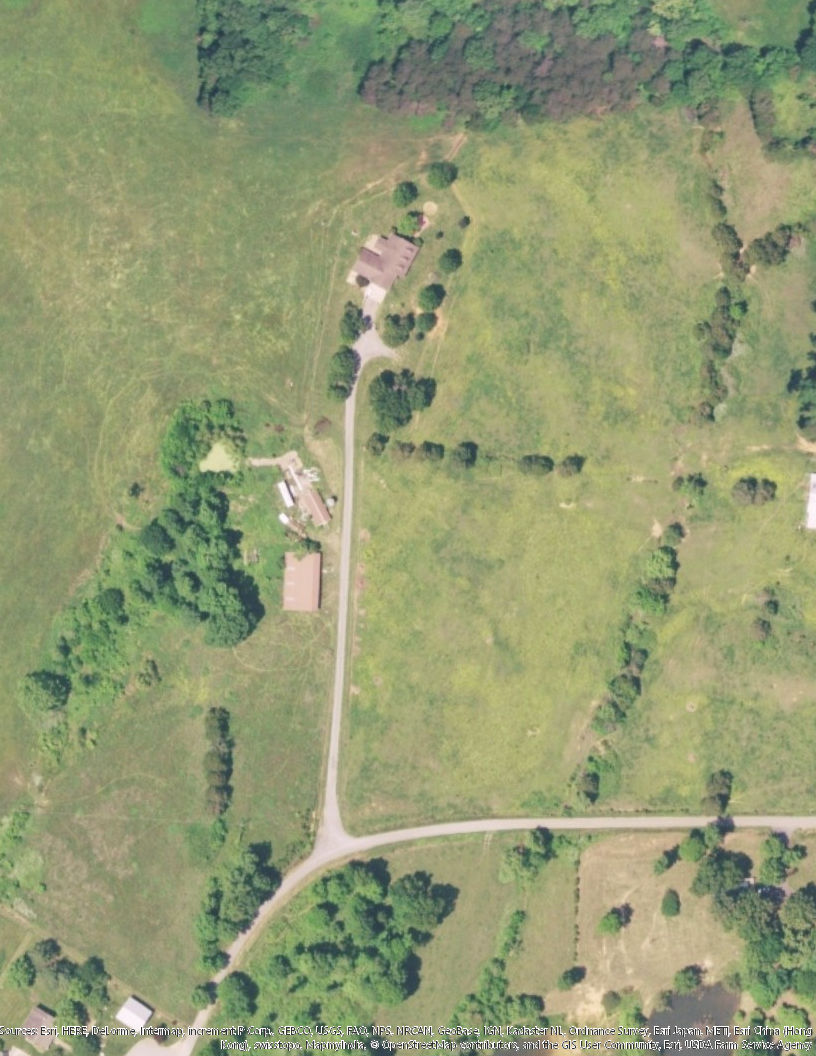cafo: (283, 457, 328, 538), (273, 547, 325, 613), (803, 471, 816, 533)
